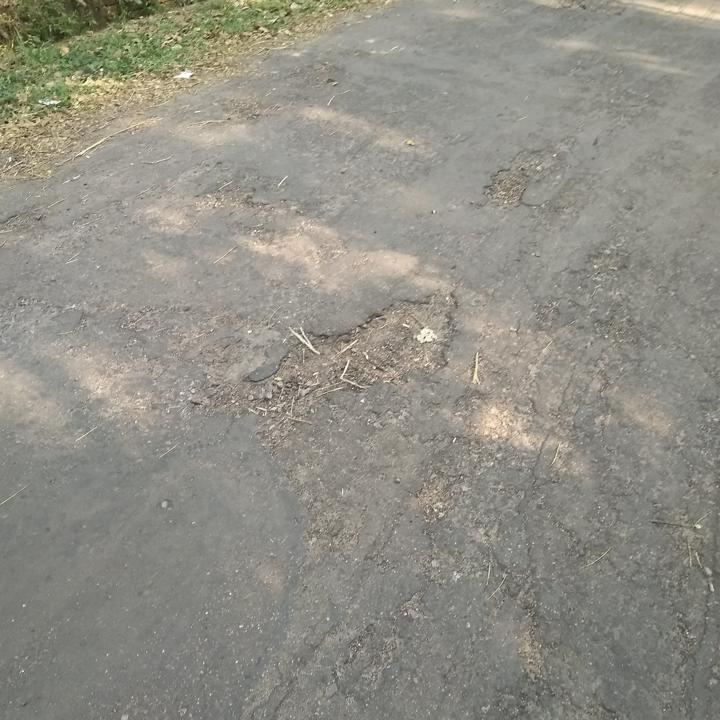Pothole: (244, 250, 610, 469), (474, 141, 535, 227)
